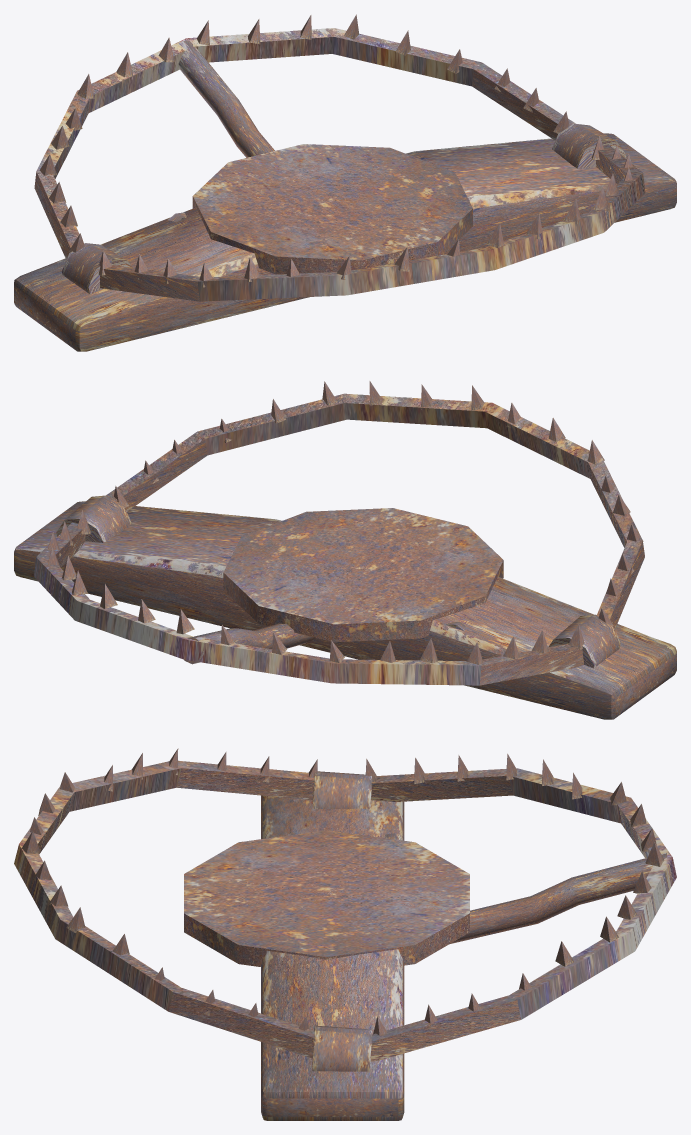
File: trap_wnyki.FBX
The picture shows the model from 3 angles, top to bottom: view 1: azimuth 30°, elevation 25°; view 2: azimuth 150°, elevation 25°; view 3: azimuth 270°, elevation 25°; orthographic projection. The views are drawn at different scales.
Parts seen in each view (by area): view 1: Box001, Tube001, Cylinder001, Cylinder003, Cylinder005, Cylinder004; view 2: Box001, Tube001, Cylinder001, Cylinder005, Cylinder004, Cylinder003; view 3: Tube001, Cylinder001, Box001, Cylinder003, Cylinder005, Cylinder004.
Boxes of the visible parts, bbox=[...] form: Box001: bbox=[14, 133, 676, 351]; Tube001: bbox=[34, 28, 645, 301]; Cylinder001: bbox=[192, 144, 472, 274]; Cylinder003: bbox=[178, 40, 274, 157]; Cylinder005: bbox=[552, 123, 626, 168]; Cylinder004: bbox=[61, 243, 132, 294]; Box001: bbox=[14, 501, 676, 719]; Tube001: bbox=[34, 393, 644, 685]; Cylinder001: bbox=[223, 508, 503, 642]; Cylinder005: bbox=[56, 495, 131, 542]; Cylinder004: bbox=[548, 614, 620, 668]; Cylinder003: bbox=[184, 623, 315, 664]; Tube001: bbox=[14, 760, 676, 1061]; Cylinder001: bbox=[184, 830, 469, 966]; Box001: bbox=[261, 795, 404, 1120]; Cylinder003: bbox=[450, 853, 666, 943]; Cylinder005: bbox=[312, 1025, 371, 1071]; Cylinder004: bbox=[312, 771, 371, 808].
Bounding box in the file's own units: 8.5 × 1.82 × 7.6.
1 material, 1 textured.
